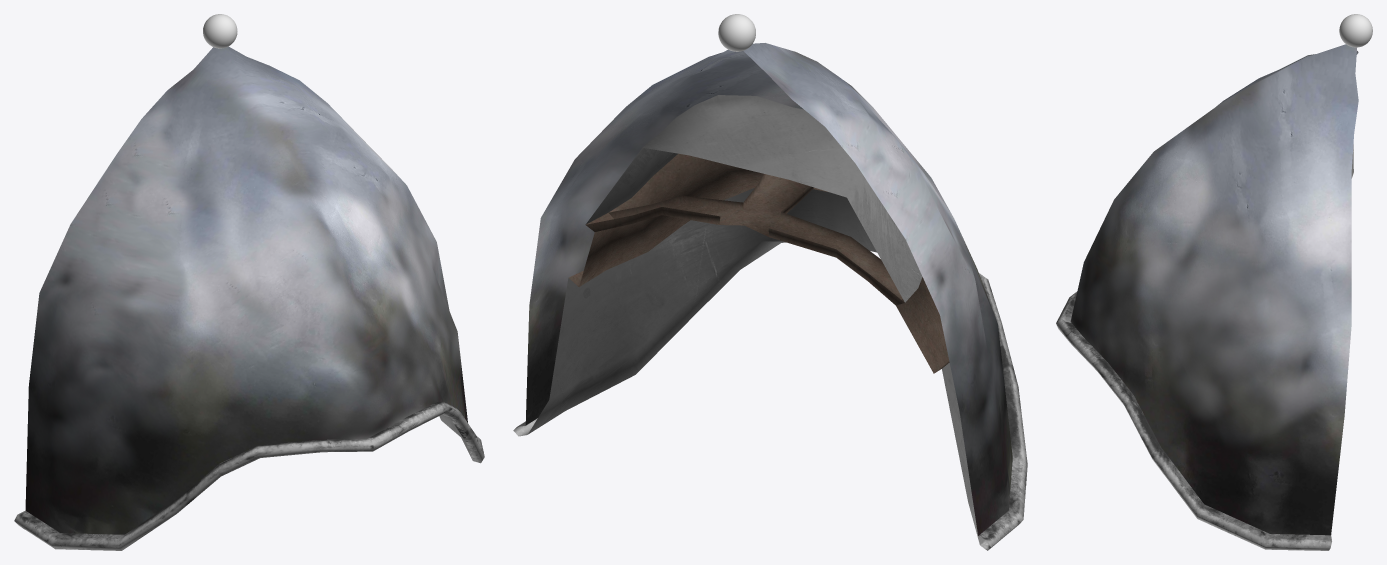
The model's file is helm.fbx.
The picture shows the model from 3 angles, left to right: view 1: azimuth 30°, elevation 25°; view 2: azimuth 150°, elevation 25°; view 3: azimuth 270°, elevation 25°; orthographic projection. The views are drawn at different scales.
Parts seen in each view (by area): view 1: helm.final, Sphere; view 2: helm.final, Sphere; view 3: helm.final, Sphere.
Boxes of the visible parts, x1,y1,x2,y2 form: helm.final: (14, 46, 484, 550); Sphere: (203, 14, 237, 48); helm.final: (513, 43, 1027, 550); Sphere: (718, 14, 755, 51); helm.final: (1056, 44, 1358, 550); Sphere: (1339, 14, 1372, 47).
Size of the model in its own units: 406 by 398 by 263.
